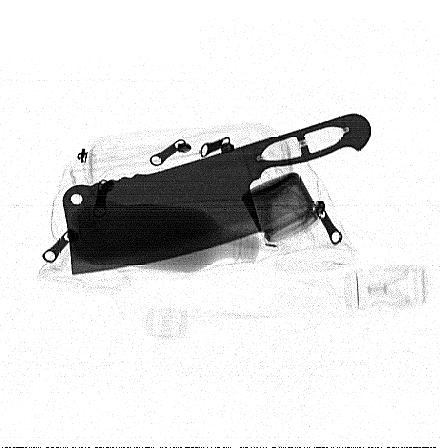Knife: (62, 113, 372, 276)
